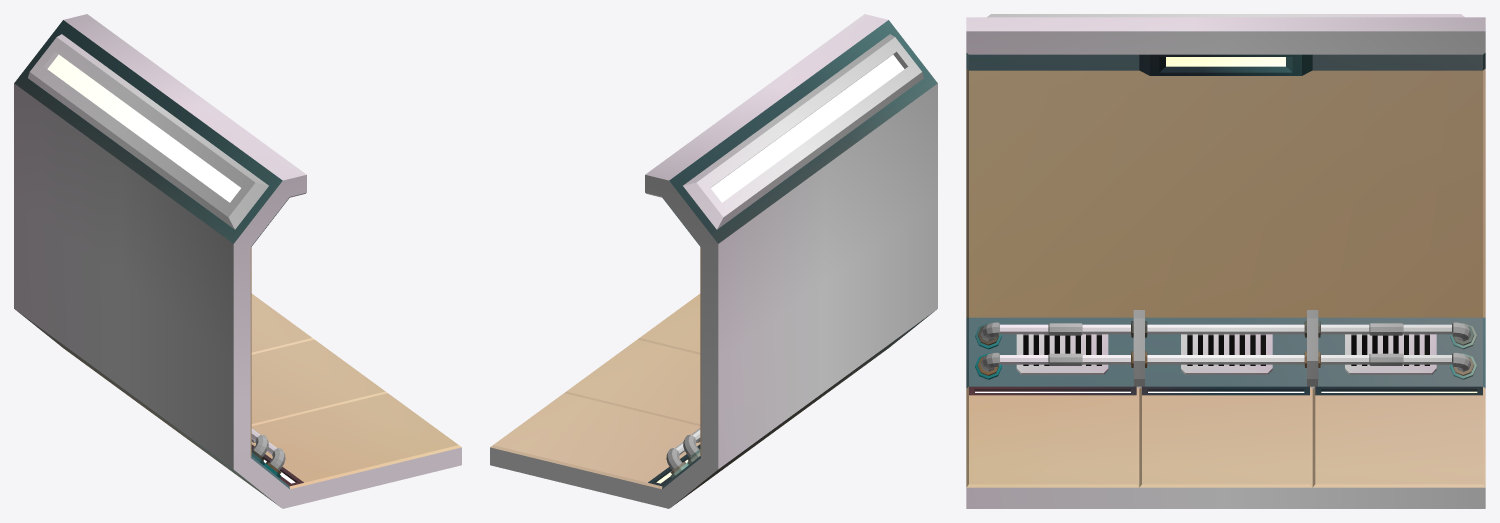
Rendered from C_NoCeiling.fbx.
3 views of the same model, side by side, from view 1: azimuth 30°, elevation 25°; view 2: azimuth 150°, elevation 25°; view 3: azimuth 270°, elevation 25° (orthographic). The views are drawn at different scales.
Parts seen in each view (by area): view 1: C_NoCeiling; view 2: C_NoCeiling; view 3: C_NoCeiling.
Boxes of the visible parts, x1,y1,x2,y2 form: C_NoCeiling: [14, 14, 461, 508]; C_NoCeiling: [490, 14, 937, 508]; C_NoCeiling: [966, 14, 1485, 508].
Size of the model in its own units: 240 by 330 by 400.
